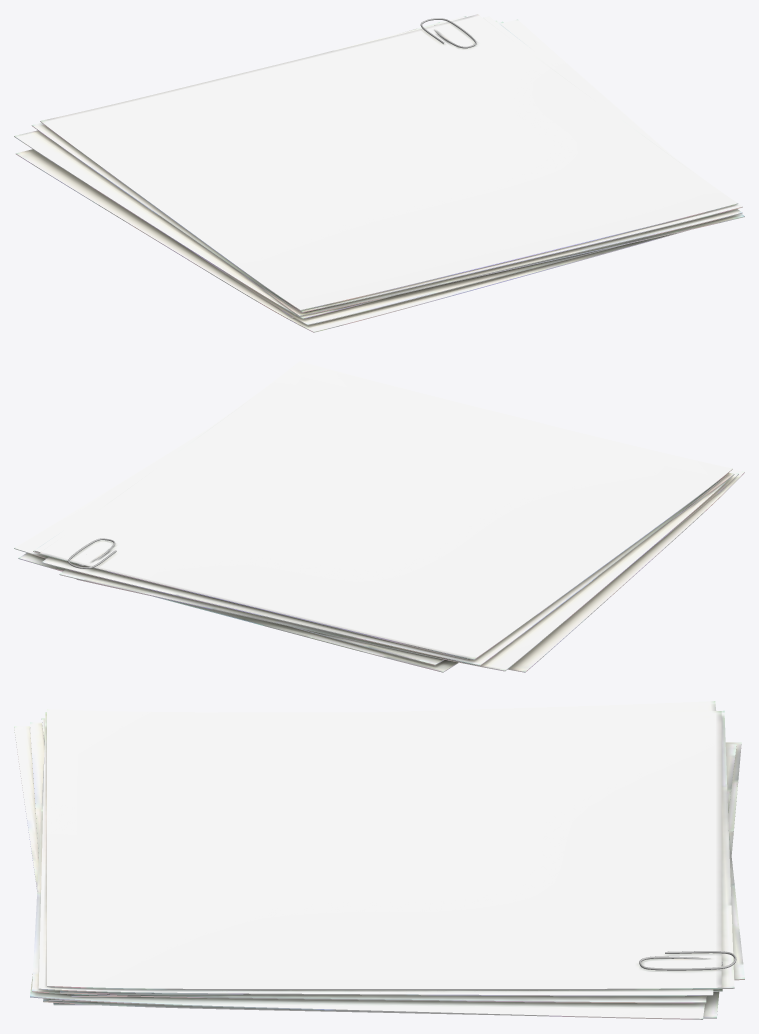
The model's file is research-baked.glb.
3 renders of one model, top to bottom at view 1: azimuth 30°, elevation 25°; view 2: azimuth 150°, elevation 25°; view 3: azimuth 270°, elevation 25°, orthographic. The views are drawn at different scales.
Parts seen in each view (by area): view 1: Loose research sheet 8, Loose research sheet 0, Loose research sheet 4, Loose research sheet 7, Loose research sheet 3, Loose research sheet 5, Loose research sheet 2, Loose research sheet 6; view 2: Loose research sheet 8, Loose research sheet 4, Loose research sheet 6, Loose research sheet 0, Loose research sheet 3, Loose research sheet 1, Loose research sheet 7; view 3: Loose research sheet 8, Loose research sheet 3, Loose research sheet 7, Loose research sheet 5, Loose research sheet 4, Loose research sheet 6, Loose research sheet 1, Loose research sheet 0, Loose research sheet 2, Bent satin steel paperclip.
Boxes of the visible parts, box(x1,y1,x2,y2) form: Loose research sheet 8: box(40, 14, 738, 310); Loose research sheet 0: box(15, 149, 688, 332); Loose research sheet 4: box(14, 22, 439, 318); Loose research sheet 7: box(295, 16, 742, 312); Loose research sheet 3: box(293, 19, 744, 315); Loose research sheet 5: box(242, 20, 742, 316); Loose research sheet 2: box(194, 244, 624, 325); Loose research sheet 6: box(31, 16, 466, 312); Loose research sheet 8: box(39, 362, 732, 659); Loose research sheet 4: box(59, 474, 734, 671); Loose research sheet 6: box(41, 473, 728, 665); Loose research sheet 0: box(76, 469, 744, 672); Loose research sheet 3: box(14, 430, 444, 665); Loose research sheet 1: box(18, 487, 725, 672); Loose research sheet 7: box(35, 361, 543, 659); Loose research sheet 8: box(47, 709, 721, 989); Loose research sheet 3: box(30, 744, 736, 1019); Loose research sheet 7: box(38, 712, 713, 996); Loose research sheet 5: box(32, 757, 706, 1003); Loose research sheet 4: box(41, 701, 744, 996); Loose research sheet 6: box(60, 710, 734, 994); Loose research sheet 1: box(43, 742, 741, 1018); Loose research sheet 0: box(14, 726, 94, 1005); Loose research sheet 2: box(30, 722, 722, 1001); Bent satin steel paperclip: box(639, 951, 736, 970).
Bounding box in the file's own units: 3.41 × 0.122 × 3.28.
2 materials, 1 textured.
